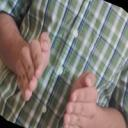hand: (61, 70, 127, 127), (6, 31, 53, 102)
